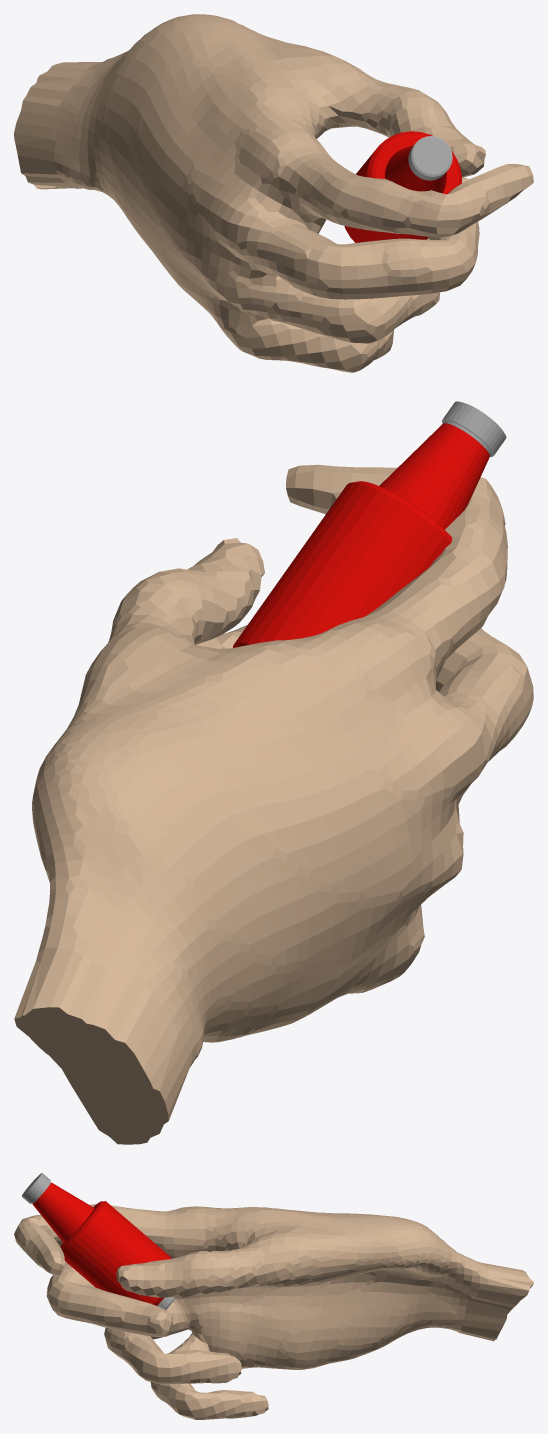
The model's file is SC2-hand-with-dummy-fuse-D50A.fbx.
The picture shows the model from 3 angles, top to bottom: view 1: azimuth 30°, elevation 25°; view 2: azimuth 150°, elevation 25°; view 3: azimuth 270°, elevation 25°; orthographic projection. The views are drawn at different scales.
Parts seen in each view (by area): view 1: Object03_Object03.001, Fuse_Circle.002; view 2: Object03_Object03.001, Fuse_Circle.002; view 3: Object03_Object03.001, Fuse_Circle.002.
Boxes of the visible parts, x1,y1,x2,y2 form: Object03_Object03.001: (14, 14, 533, 372); Fuse_Circle.002: (344, 131, 461, 242); Object03_Object03.001: (14, 464, 533, 1144); Fuse_Circle.002: (233, 401, 506, 647); Object03_Object03.001: (14, 1204, 533, 1419); Fuse_Circle.002: (22, 1173, 176, 1309).
Bounding box in the file's own units: 280 × 353 × 725.
